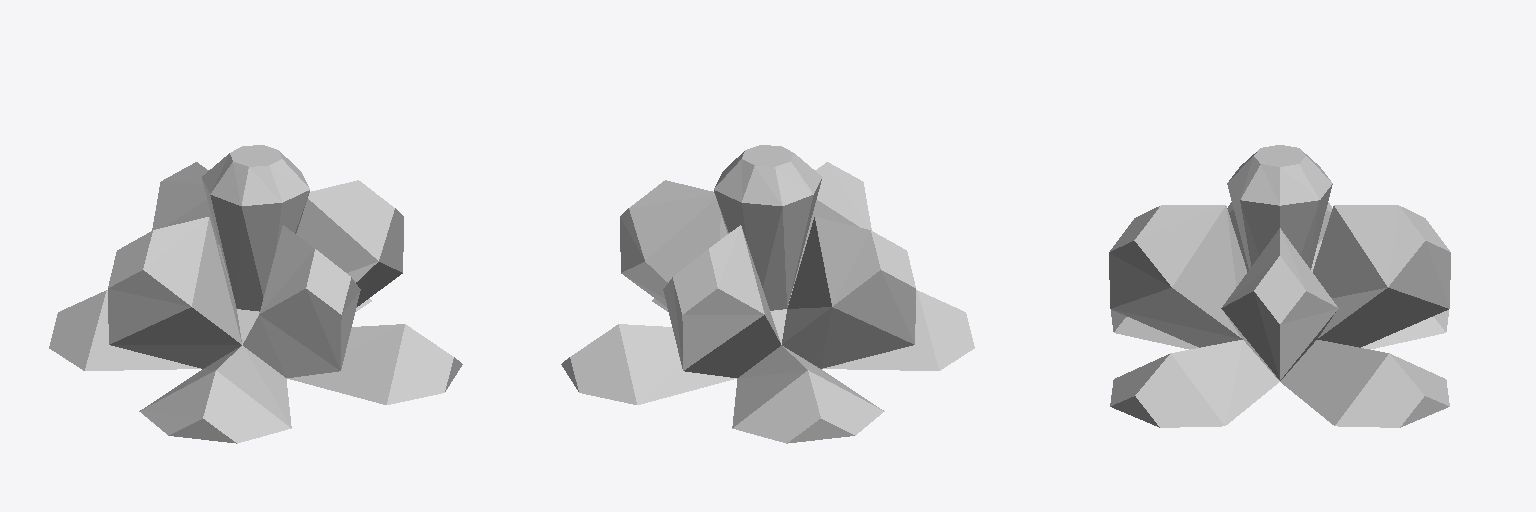
File: crystalGround.obj
3 renders of one model, left to right at view 1: azimuth 30°, elevation 25°; view 2: azimuth 150°, elevation 25°; view 3: azimuth 270°, elevation 25°, orthographic.
Parts seen in each view (by area): view 1: Cube5_cut3_default2; view 2: Cube5_cut3_default2; view 3: Cube5_cut3_default2.
Boxes of the visible parts, <box> form: Cube5_cut3_default2: <box>49,145,462,443</box>; Cube5_cut3_default2: <box>561,145,974,443</box>; Cube5_cut3_default2: <box>1109,145,1450,427</box>.
Bounding box in the file's own units: 1.07 × 0.69 × 1.07.